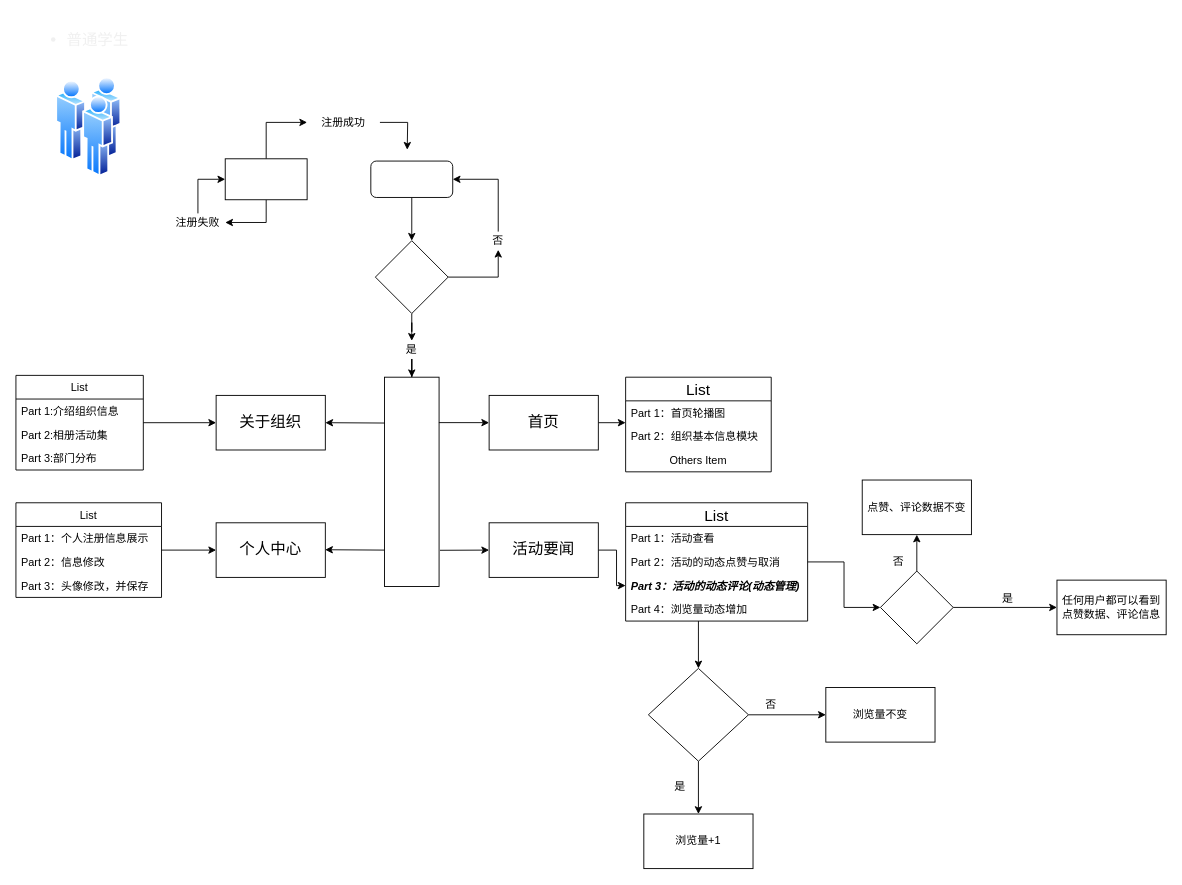
Some shapes in this 1182 by 885 pixel diagram are drawn without their labels. Here are the shapes that lost their labels. From the top down, the box of each, then its label:
(224, 158, 307, 200): 用户注册
(370, 160, 453, 197): 登录
(374, 240, 448, 313): 登陆成功
(384, 376, 439, 586): 功 能 选 择
(880, 570, 953, 644): 点赞、评论
(647, 667, 748, 761): 访问活动 页面
